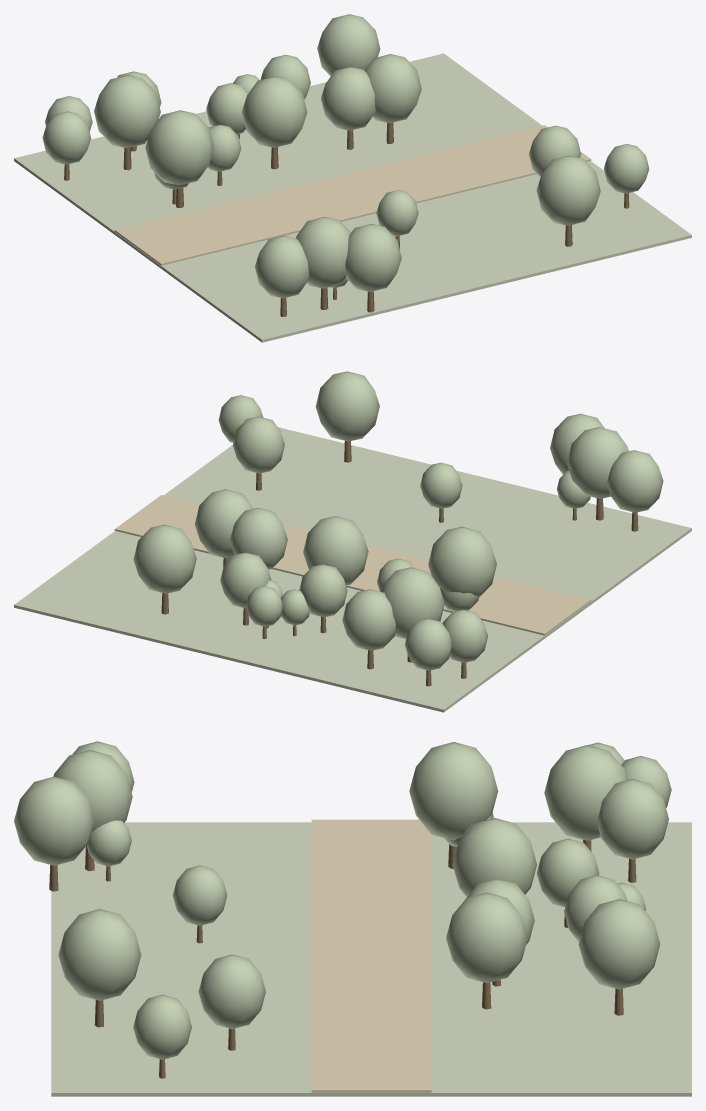
The picture shows the model from 3 angles, top to bottom: view 1: azimuth 30°, elevation 25°; view 2: azimuth 150°, elevation 25°; view 3: azimuth 270°, elevation 25°; orthographic projection. The views are drawn at different scales.
Parts seen in each view (by area): view 1: terrain, object 2, lod-near-31, lod-near-7, lod-near-22, lod-near-18, lod-near-5, lod-near-29, lod-near-3, lod-near-6, lod-near-9, lod-near-8 (+8 smaller); view 2: terrain, object 2, lod-near-31, lod-near-18, lod-near-6, lod-near-22, lod-near-7, lod-near-3, lod-near-8, lod-near-14, lod-near-29, lod-near-9 (+12 smaller); view 3: terrain, object 2, lod-near-31, lod-near-18, lod-near-29, lod-near-6, lod-near-5, lod-near-7, lod-near-22, lod-near-14, lod-near-27, lod-near-3 (+8 smaller).
Boxes of the visible parts, <box> form: terrain: <box>14,53,691,342</box>; object 2: <box>114,125,591,265</box>; lod-near-31: <box>145,110,214,185</box>; lod-near-7: <box>94,75,160,148</box>; lod-near-22: <box>242,76,307,147</box>; lod-near-18: <box>536,155,600,225</box>; lod-near-5: <box>345,224,401,291</box>; lod-near-29: <box>365,54,421,123</box>; lod-near-3: <box>296,217,350,288</box>; lod-near-6: <box>317,14,380,76</box>; lod-near-9: <box>321,67,375,130</box>; lod-near-8: <box>255,236,309,298</box>; terrain: <box>14,427,691,712</box>; object 2: <box>114,495,591,635</box>; lod-near-31: <box>428,526,496,597</box>; lod-near-18: <box>315,371,379,441</box>; lod-near-6: <box>133,524,196,593</box>; lod-near-22: <box>303,516,368,585</box>; lod-near-7: <box>381,567,444,638</box>; lod-near-3: <box>567,427,628,498</box>; lod-near-8: <box>607,450,663,512</box>; lod-near-14: <box>342,589,395,650</box>; lod-near-29: <box>194,489,253,558</box>; lod-near-9: <box>230,508,287,569</box>; terrain: <box>51,822,691,1096</box>; object 2: <box>311,819,431,1092</box>; lod-near-31: <box>409,742,498,840</box>; lod-near-18: <box>58,909,141,1000</box>; lod-near-29: <box>446,892,527,982</box>; lod-near-6: <box>578,899,660,989</box>; lod-near-5: <box>14,776,94,865</box>; lod-near-7: <box>544,745,627,840</box>; lod-near-22: <box>452,818,536,896</box>; lod-near-14: <box>597,779,668,859</box>; lod-near-27: <box>198,954,265,1029</box>; lod-near-3: <box>53,750,132,832</box>.
Size of the model in its own units: 32.35 by 7.02 by 33.86.
